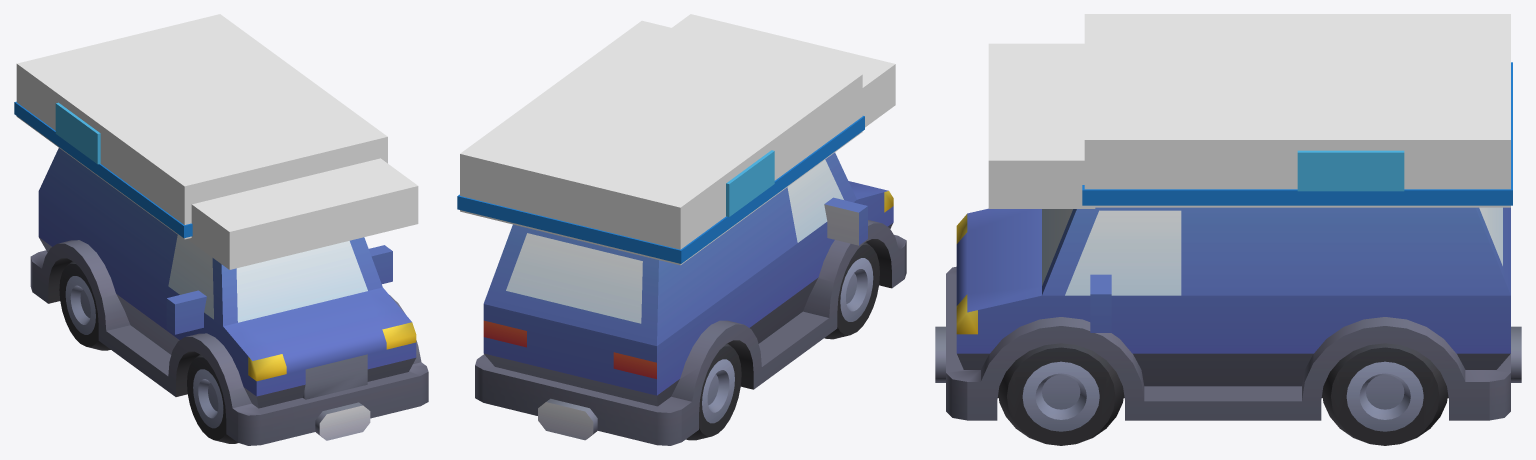
The model's file is husbil.glb.
The picture shows the model from 3 angles, left to right: view 1: azimuth 30°, elevation 25°; view 2: azimuth 150°, elevation 25°; view 3: azimuth 270°, elevation 25°; orthographic projection. The views are drawn at different scales.
Parts seen in each view (by area): view 1: till-husbil, body, wheel-front-right, wheel-back-right; view 2: till-husbil, body, wheel-back-right, wheel-front-right; view 3: body, till-husbil, wheel-front-left, wheel-back-left.
Boxes of the visible parts, x1=… form: till-husbil: x1=14, y1=14, x2=418, y2=269; body: x1=30, y1=148, x2=428, y2=445; wheel-front-right: x1=187, y1=354, x2=237, y2=443; wheel-back-right: x1=59, y1=261, x2=110, y2=350; till-husbil: x1=457, y1=14, x2=895, y2=265; body: x1=475, y1=152, x2=906, y2=445; wheel-back-right: x1=686, y1=343, x2=741, y2=440; wheel-front-right: x1=824, y1=242, x2=879, y2=339; body: x1=935, y1=207, x2=1521, y2=420; till-husbil: x1=988, y1=14, x2=1512, y2=208; wheel-front-left: x1=998, y1=343, x2=1123, y2=445; wheel-back-left: x1=1322, y1=343, x2=1447, y2=445.
Size of the model in its own units: 1.5 by 1.67 by 2.75.
4 materials, 1 textured.
